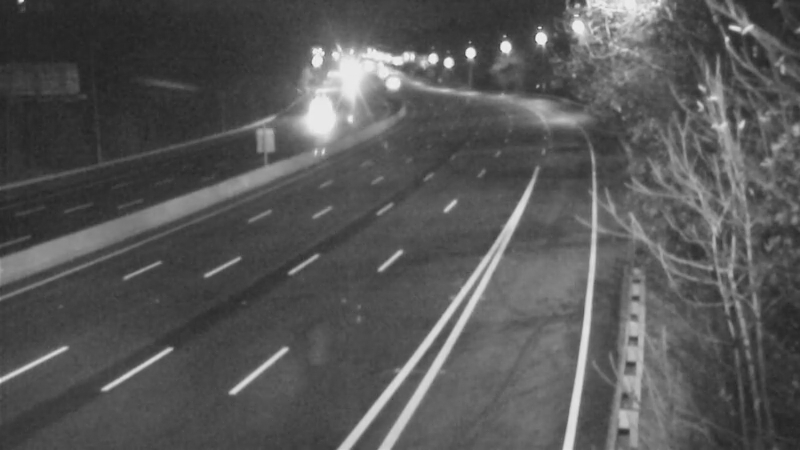vehicle: (366, 59, 416, 109), (288, 84, 338, 134)
